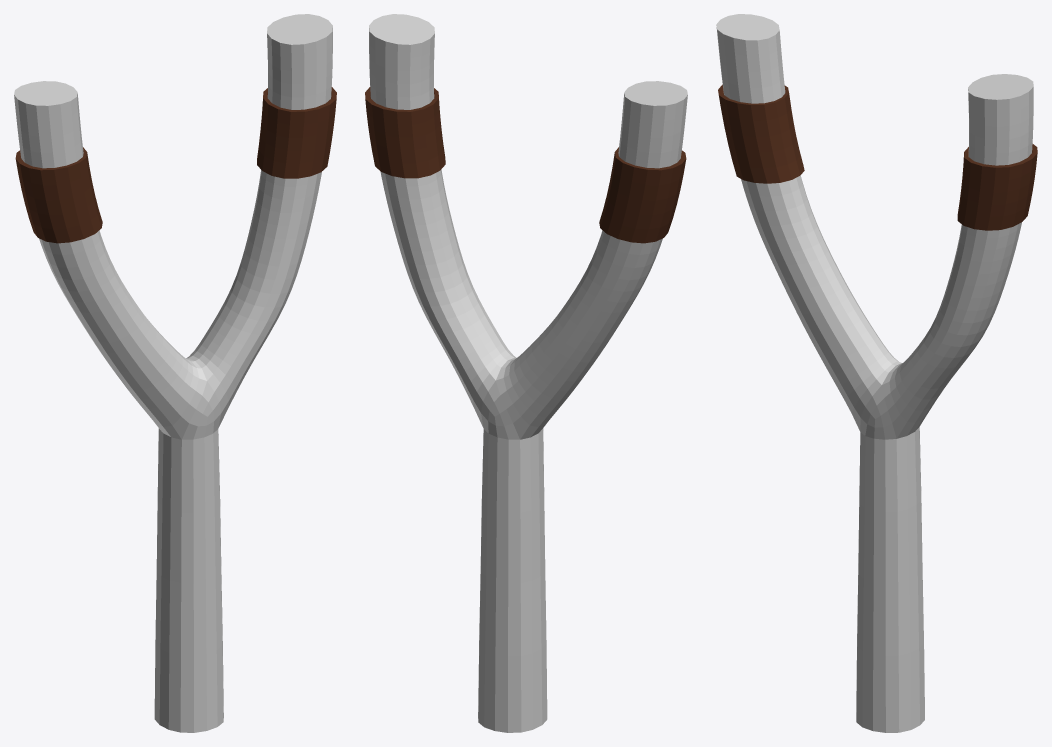
Rendered from Slingshot.fbx.
The picture shows the model from 3 angles, left to right: view 1: azimuth 30°, elevation 25°; view 2: azimuth 150°, elevation 25°; view 3: azimuth 330°, elevation 25°; orthographic projection.
Parts seen in each view (by area): view 1: Slingshot, Resin.002, Resin.001; view 2: Slingshot, Resin.002, Resin.001; view 3: Slingshot, Resin.002, Resin.001.
Part boxes in pixels (bbox=[...]): Slingshot: bbox=[14, 14, 332, 732]; Resin.002: bbox=[15, 147, 102, 243]; Resin.001: bbox=[257, 87, 336, 178]; Slingshot: bbox=[369, 14, 687, 732]; Resin.002: bbox=[599, 147, 686, 243]; Resin.001: bbox=[365, 87, 445, 178]; Slingshot: bbox=[716, 14, 1033, 732]; Resin.002: bbox=[718, 84, 804, 183]; Resin.001: bbox=[957, 144, 1037, 230].
Bounding box in the file's own units: 2.91 × 5.88 × 0.6048.
